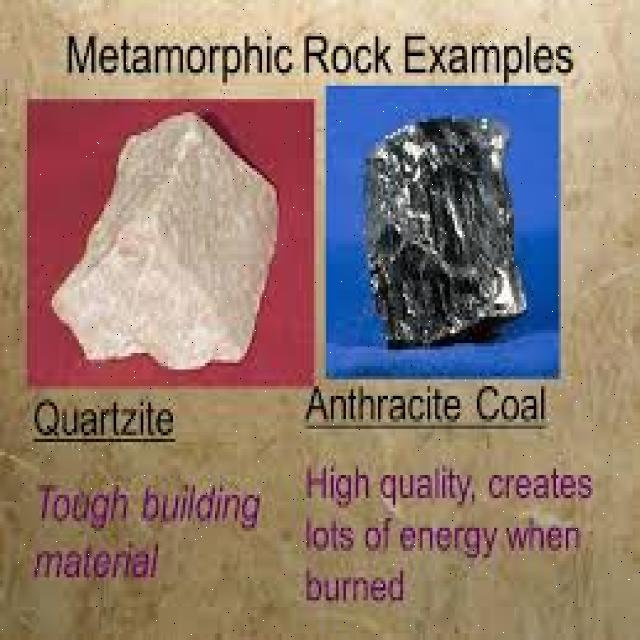Metamorphic: (52, 115, 277, 373), (356, 109, 534, 343)
